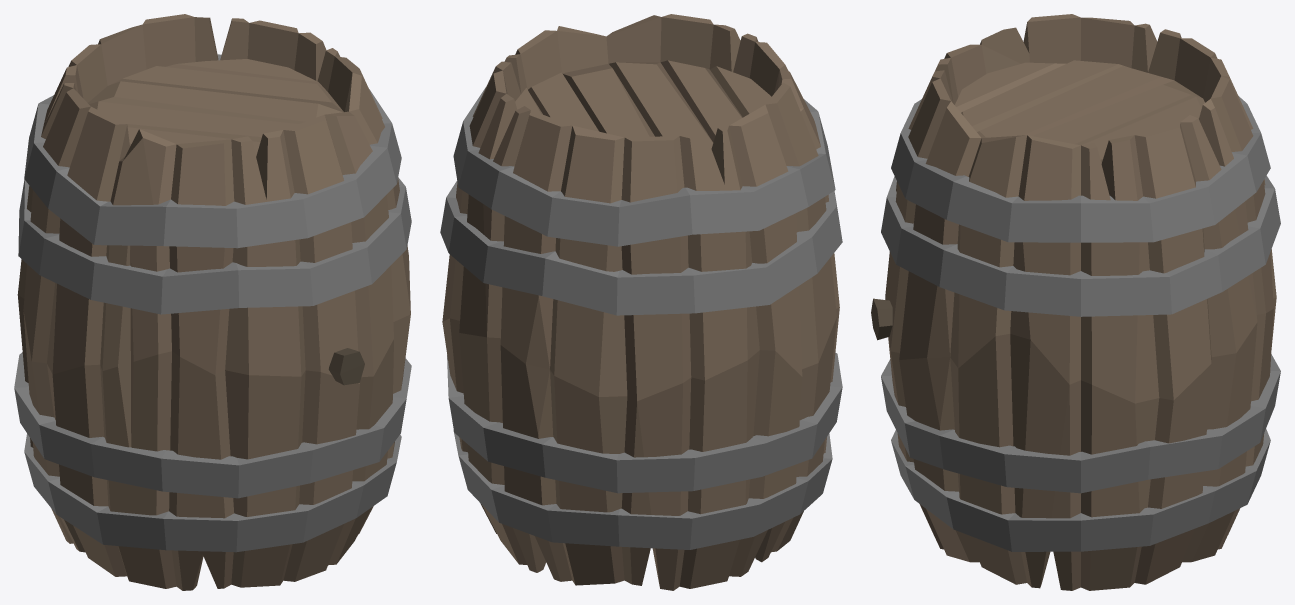
File: trp_barrel.glb
3 views of the same model, side by side, from view 1: azimuth 30°, elevation 25°; view 2: azimuth 150°, elevation 25°; view 3: azimuth 270°, elevation 25° (orthographic).
Parts seen in each view (by area): view 1: SM_Prop_Barrel_01; view 2: SM_Prop_Barrel_01; view 3: SM_Prop_Barrel_01.
Boxes of the visible parts, box(x1,y1,x2,y2) form: SM_Prop_Barrel_01: box(14, 14, 411, 590); SM_Prop_Barrel_01: box(440, 14, 842, 590); SM_Prop_Barrel_01: box(871, 14, 1280, 590).
Size of the model in its own units: 0.8583 by 1.07 by 0.8794.
1 material, 1 textured.
